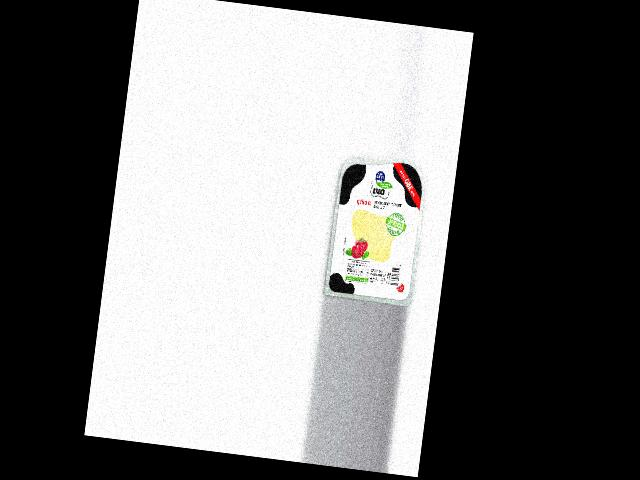cheese: (323, 150, 429, 306)
